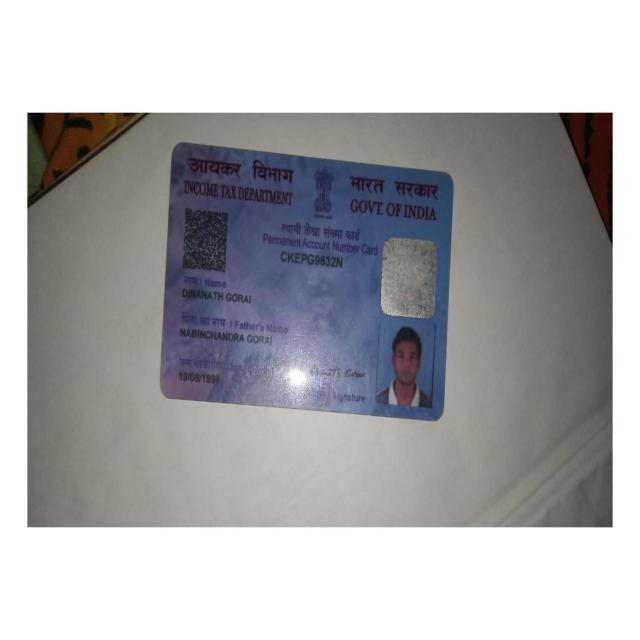pan_card: (161, 144, 450, 419)
